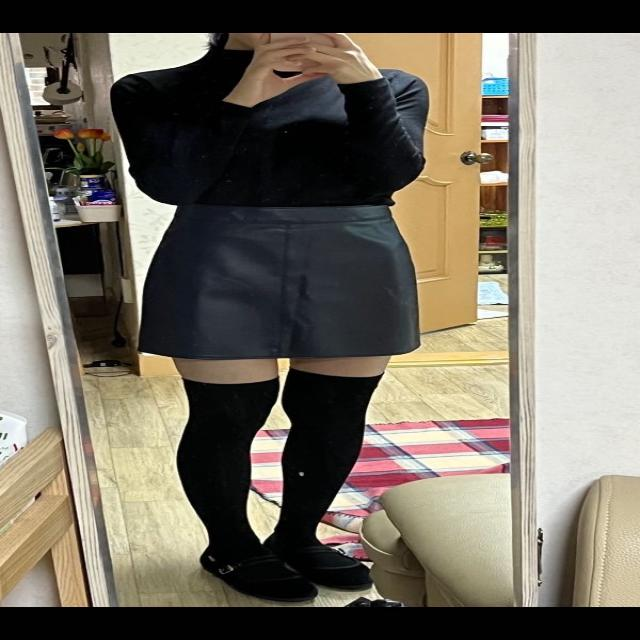longsleeve: (115, 39, 433, 211)
skirt: (139, 205, 422, 362)
